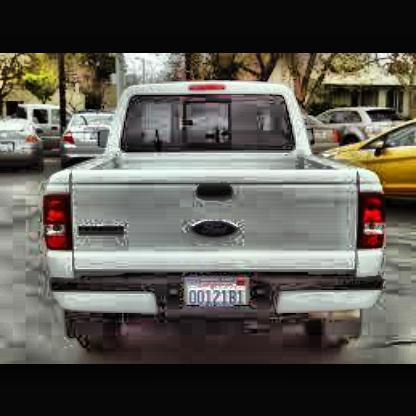Ford Ranger SuperCab 2011: (36, 77, 392, 343)
